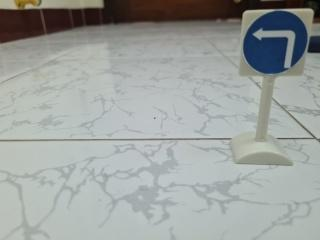left: (232, 5, 319, 81)
